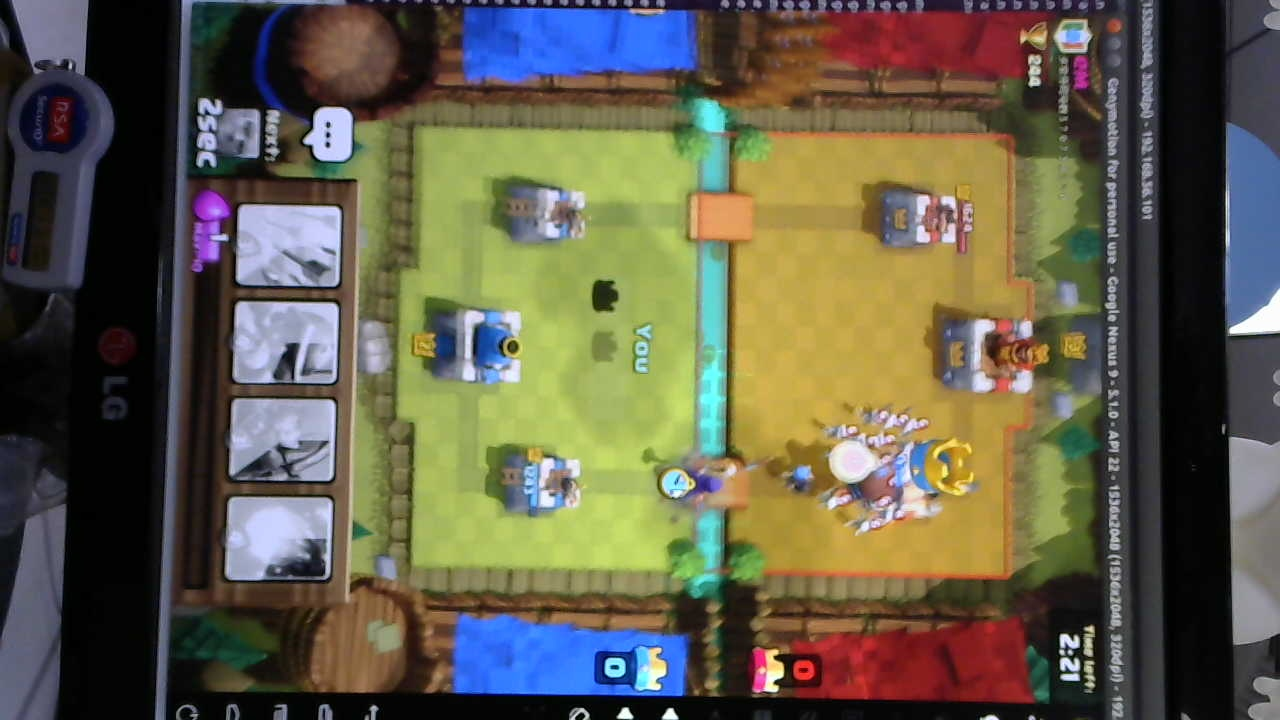witch: (654, 460, 736, 504)
